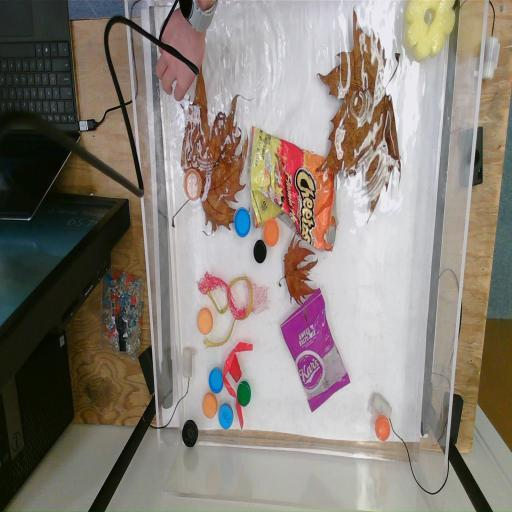Bottle Cap: (182, 170, 202, 203), (180, 419, 200, 449), (233, 206, 251, 238), (264, 218, 280, 246), (197, 308, 213, 336), (218, 402, 234, 430), (202, 392, 218, 418), (374, 415, 390, 441), (208, 368, 224, 394), (236, 381, 252, 407), (253, 239, 267, 264)
Cone Cap: (226, 349, 244, 381)
Leaf: (316, 6, 401, 218), (181, 63, 251, 241), (284, 230, 320, 300)
Netting: (198, 270, 248, 322), (244, 274, 272, 317)
Plastic Bag: (249, 125, 338, 253), (280, 288, 352, 417)
Plastic Strand: (200, 274, 255, 347), (220, 338, 254, 426)
Sponge: (402, 0, 454, 69)
